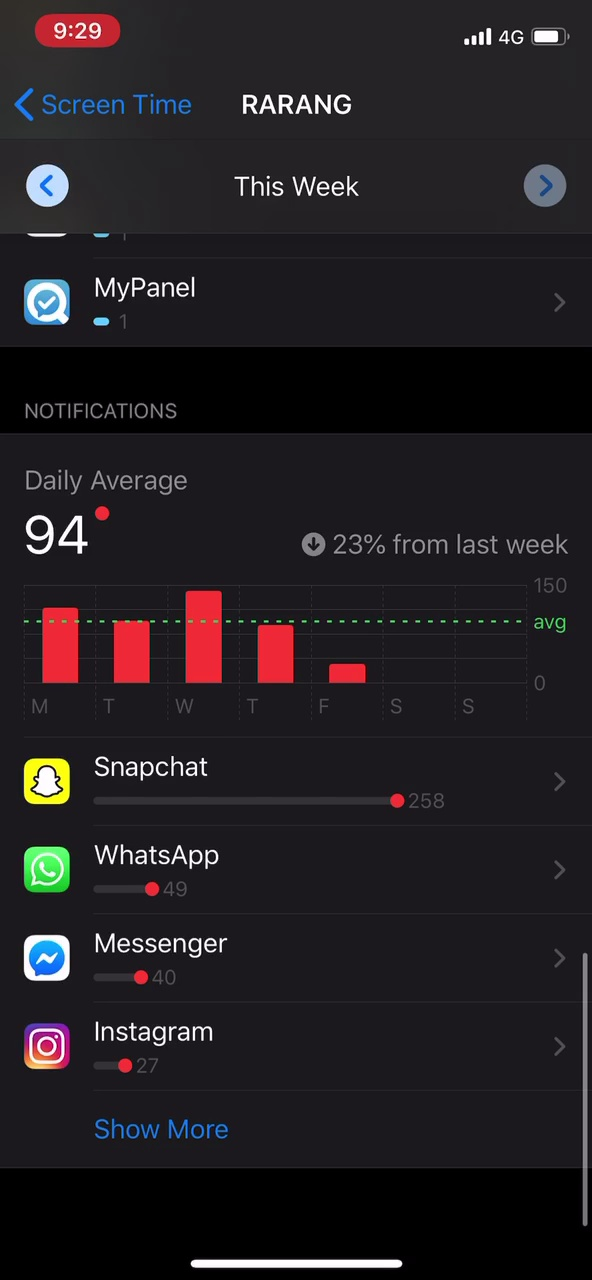not_app: (15, 742, 464, 816), (9, 924, 253, 992), (15, 838, 256, 905), (11, 1014, 236, 1083)
not_over: (15, 389, 206, 571)
pick_app: (11, 263, 256, 335)
week: (215, 163, 372, 209)
